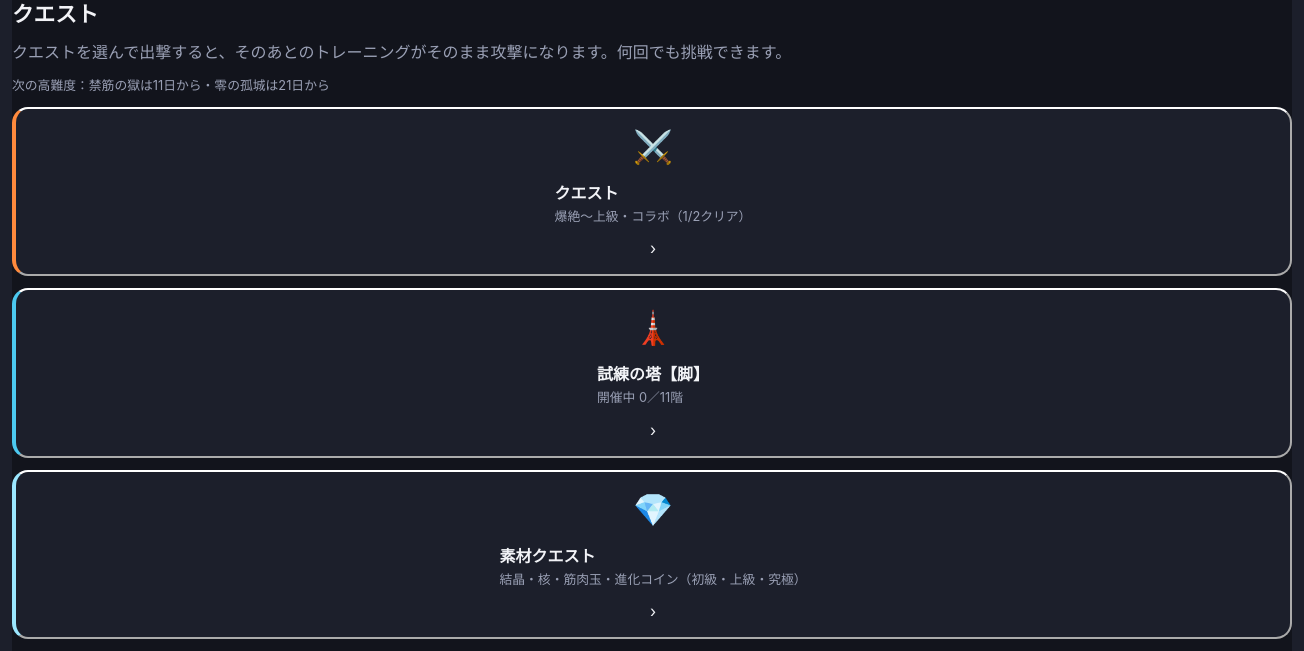
it: 画面の表示 › クエスト：入口から選んで一覧へ。一覧は格の見出しで分かれ、バナーに格のリボンが付く
Click the button "💎 素材クエスト 結晶・核・筋肉玉・進化コイン（初級・上級・究極） ›" at (652,554), box [12,470,1292,639]
(page scrolled)
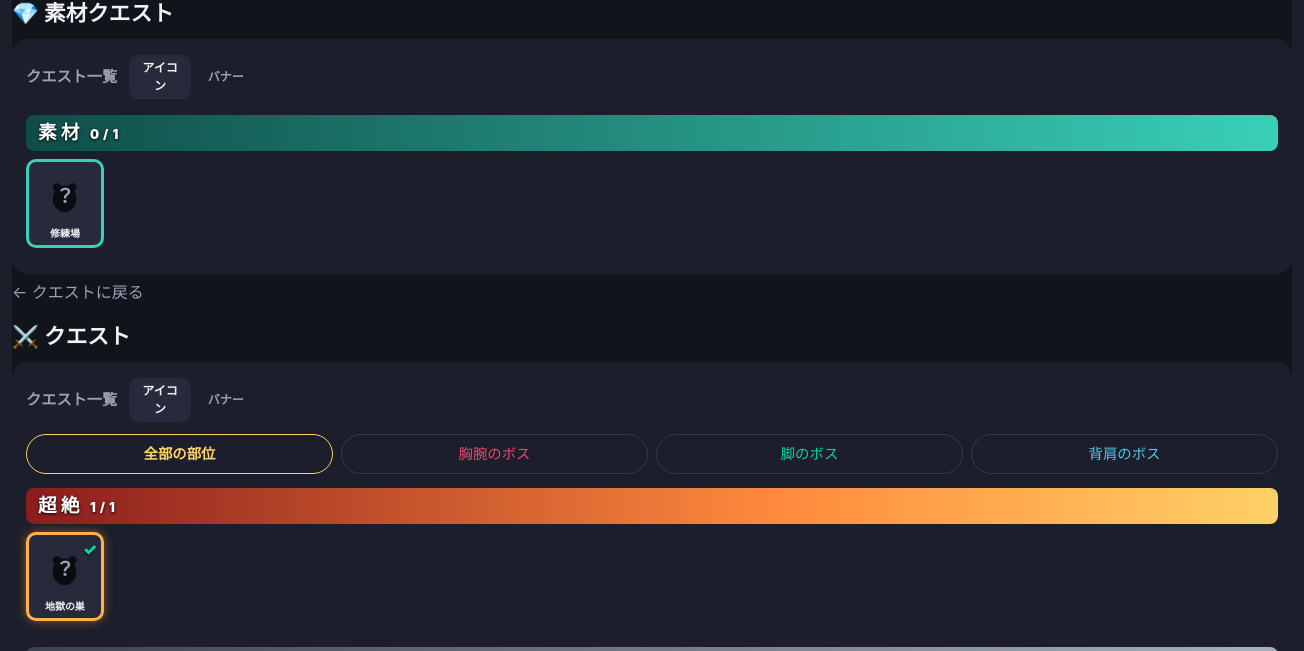
Check: the text "✓" is shown, box [83,537,97,561]
Click the 2nd button "バナー" at (226,400), box [195,378,256,422]
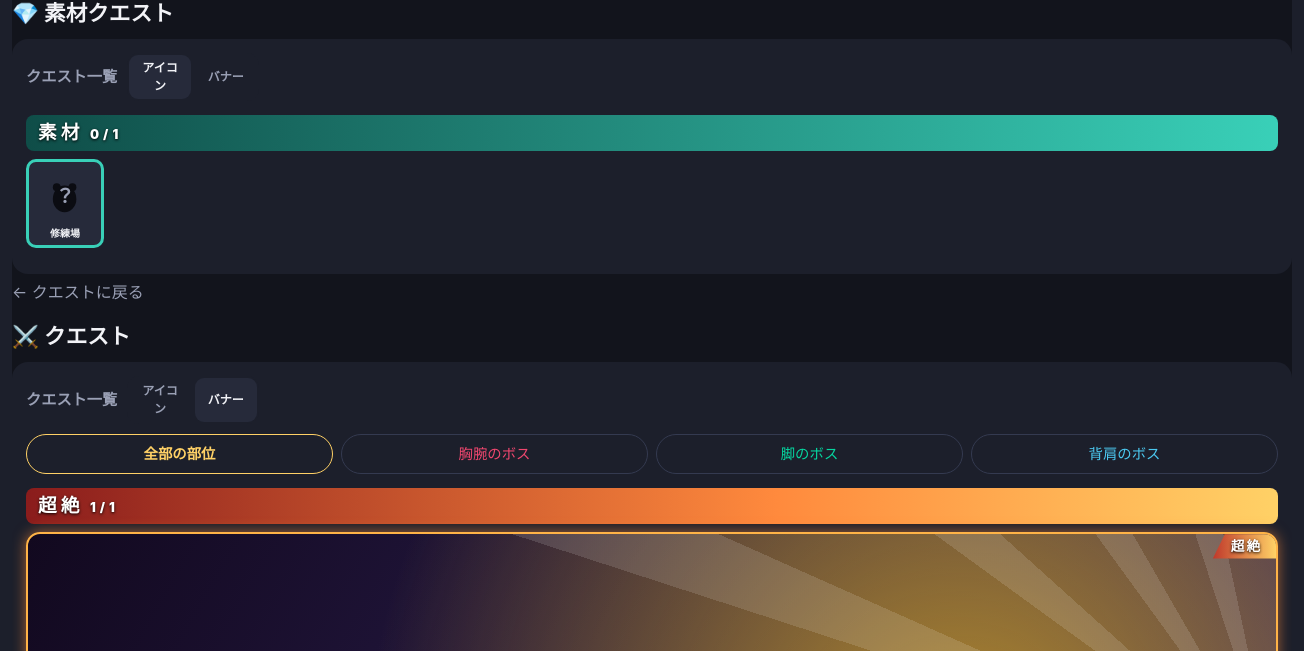
Check: the text with class "grade-ribbon" reads "超絶", box [1231,538,1262,554]
